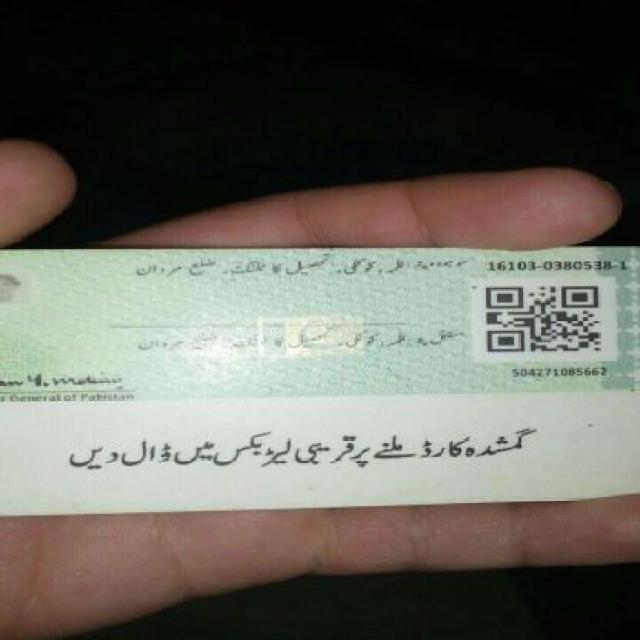Back: (0, 243, 638, 510)
